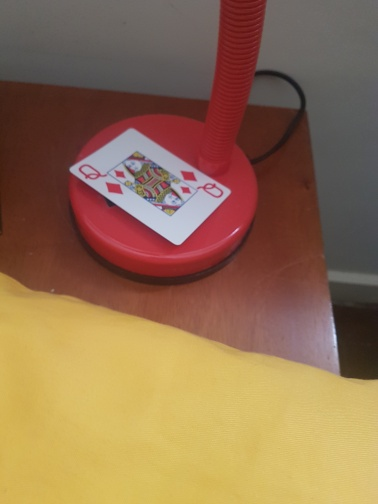queen: (68, 127, 232, 247)
